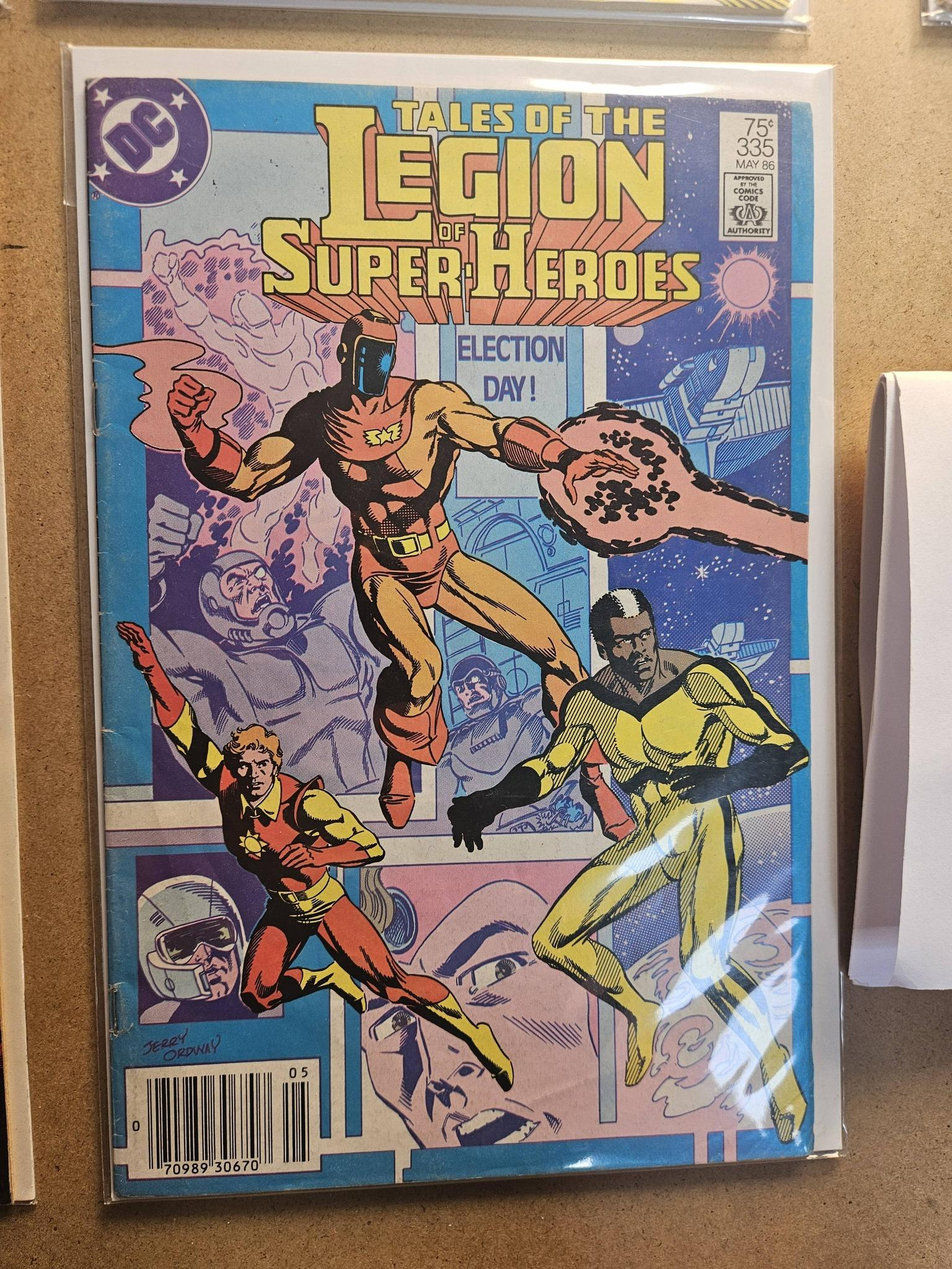comic: (72, 30, 858, 1198)
